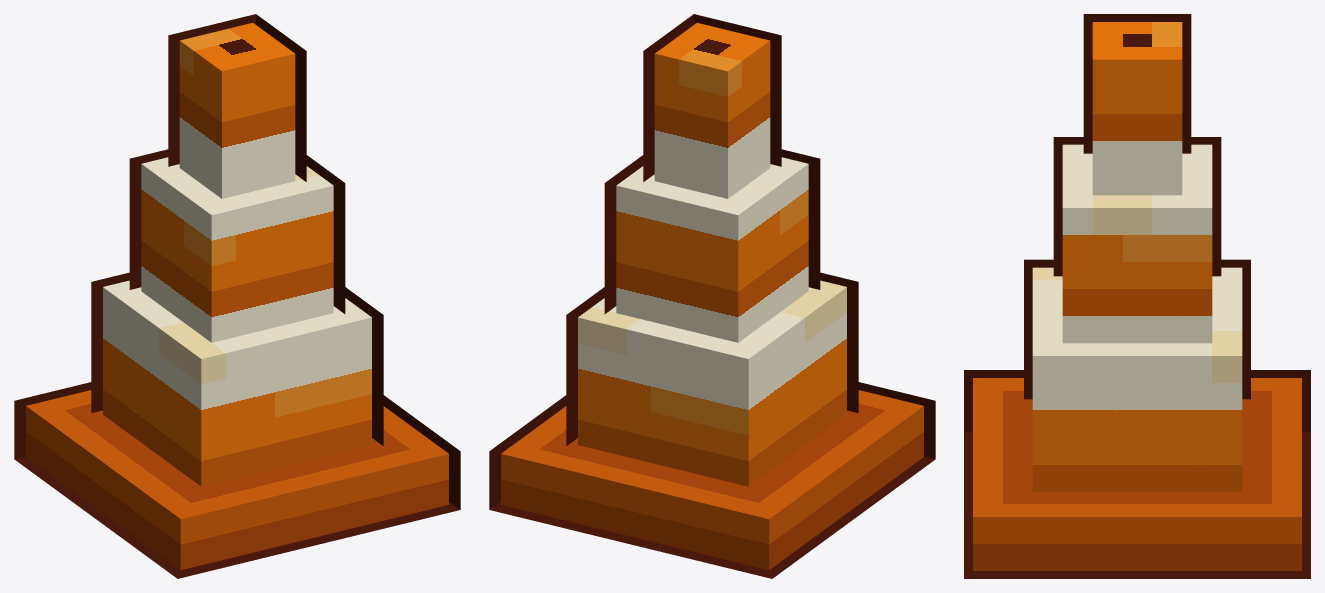
The picture shows the model from 3 angles, left to right: view 1: azimuth 30°, elevation 25°; view 2: azimuth 150°, elevation 25°; view 3: azimuth 270°, elevation 25°; orthographic projection. The views are drawn at different scales.
Visible parts, largest first — view 1: cube (×4), cube_outline (×4); view 2: cube (×4), cube_outline (×4); view 3: cube (×4), cube_outline (×4).
Boxes of the visible parts, left/top/right/bottom form: cube (×4): left=26, top=22, right=448, bottom=569; cube_outline (×4): left=14, top=14, right=460, bottom=578; cube (×4): left=501, top=22, right=923, bottom=569; cube_outline (×4): left=489, top=14, right=935, bottom=578; cube (×4): left=973, top=22, right=1301, bottom=570; cube_outline (×4): left=964, top=14, right=1310, bottom=578.
Size of the model in its own units: 0.725 by 1.08 by 0.725.
Materials: 2 (2 with a texture image).
